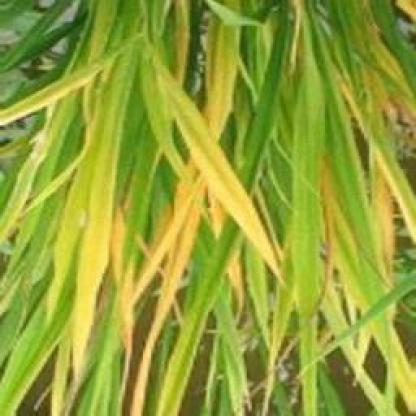Tungro: (151, 60, 284, 289), (42, 97, 132, 412), (116, 208, 201, 416), (339, 91, 416, 252), (3, 60, 104, 127)
